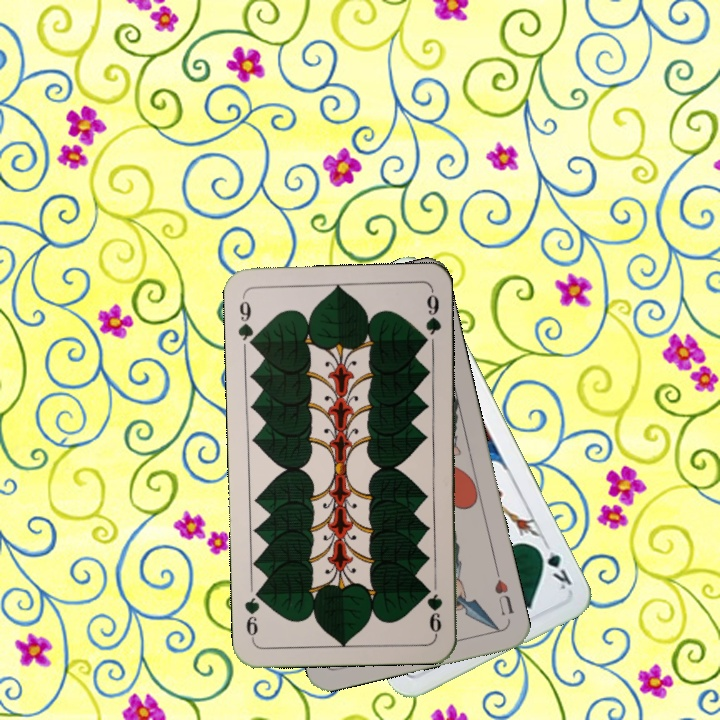G9: (233, 293, 259, 352), (424, 578, 444, 637)
GK: (533, 537, 575, 593)
HU: (490, 565, 516, 618)
